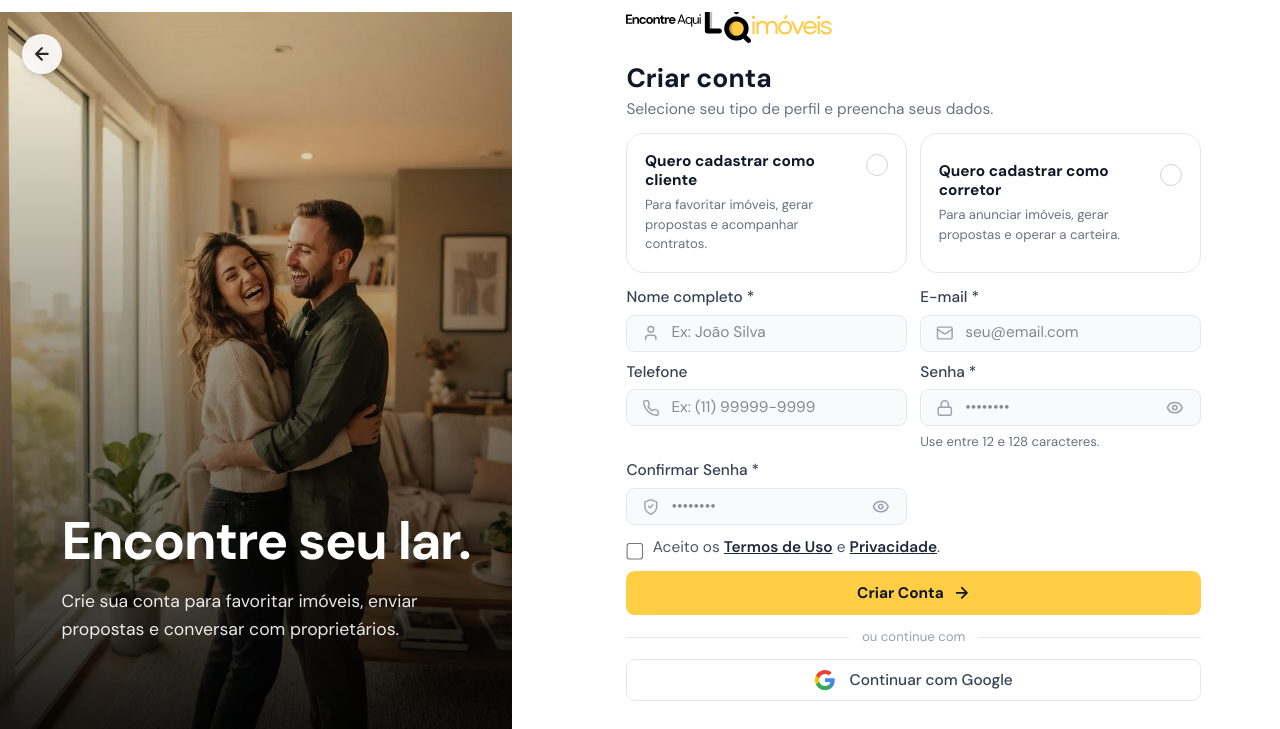
Scenario: signup flow › mapeia e-mail já registrado para ação de login quando 409 retorna do backend
Click the button "Quero cadastrar como cliente" at (767, 203), box [626,133,907,273]
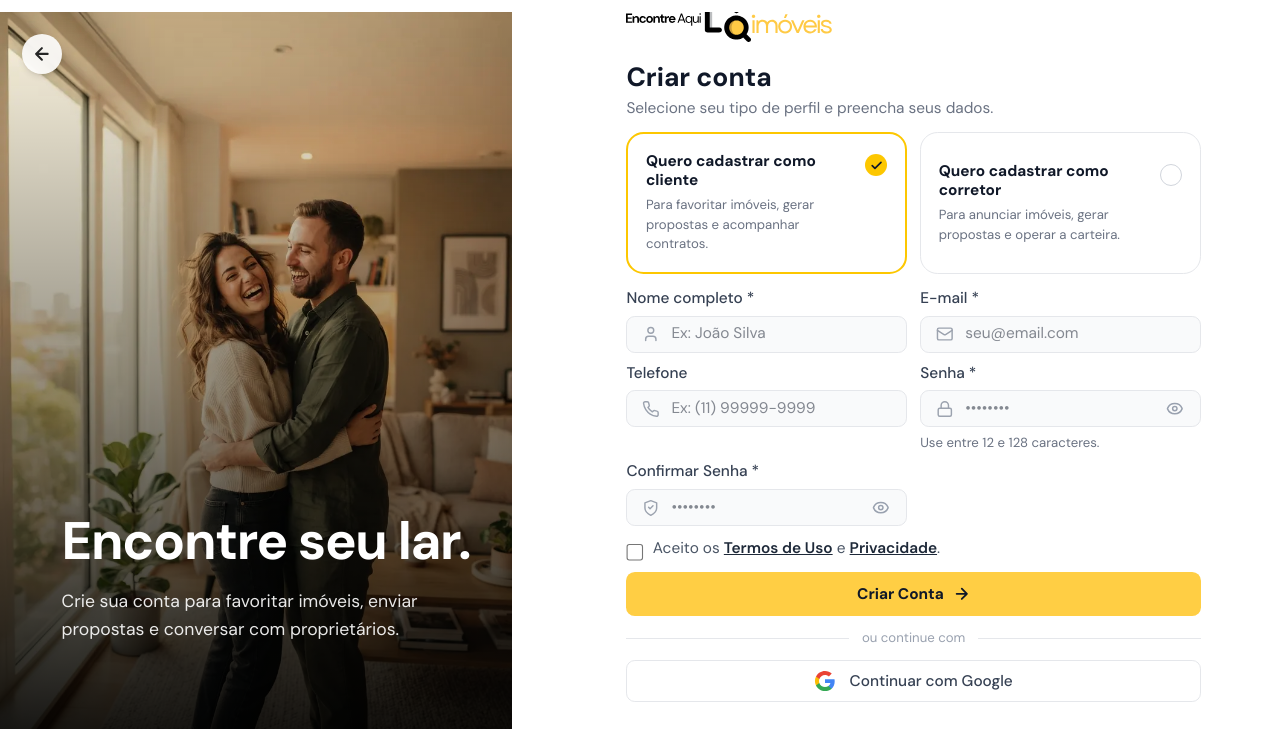
Type "Cliente Conflito" into the field labelled "Nome completo *" at (767, 334), box [626,316,907,353]
Type "conflito@example.com" into the field labelled "E-mail *" at (1060, 334), box [920,316,1201,353]
Type "SenhaMuitoSegura123" into the password field labelled "Senha *" at (1060, 409), box [920,390,1201,427]
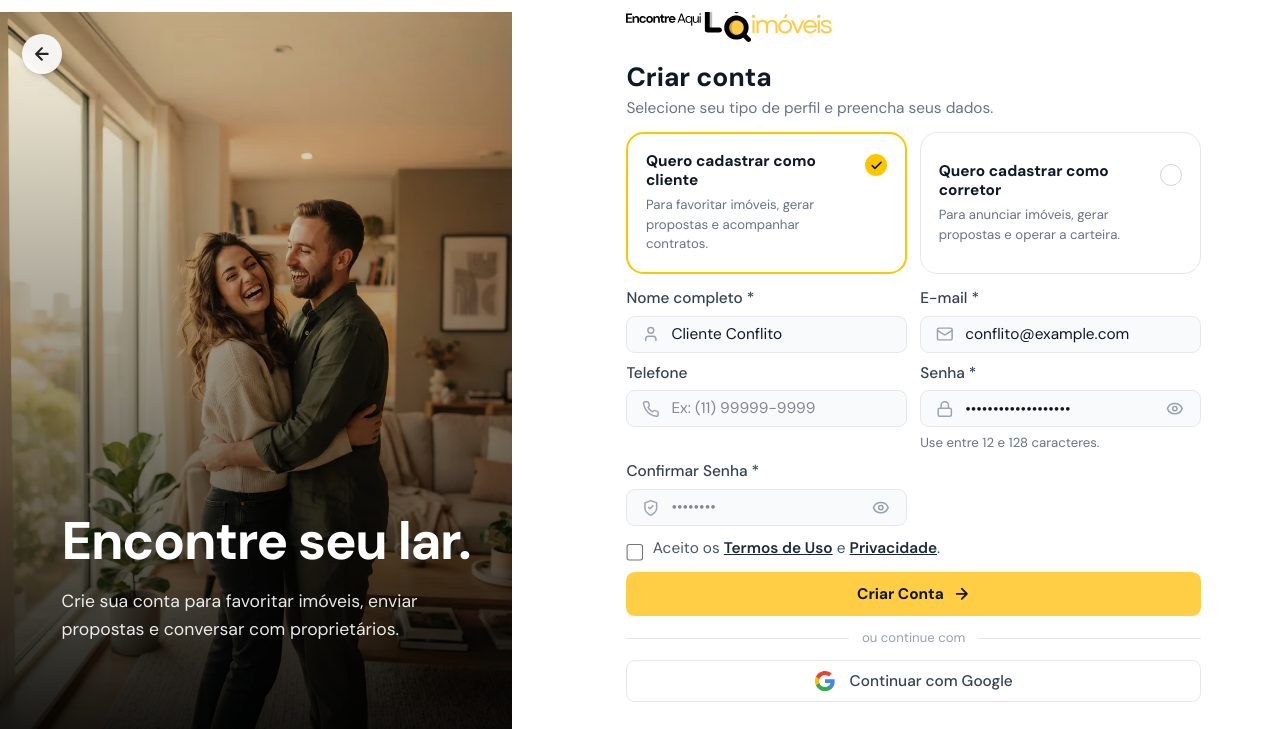
Type "SenhaMuitoSegura123" into the password field labelled "Confirmar Senha *" at (767, 508), box [626,489,907,526]
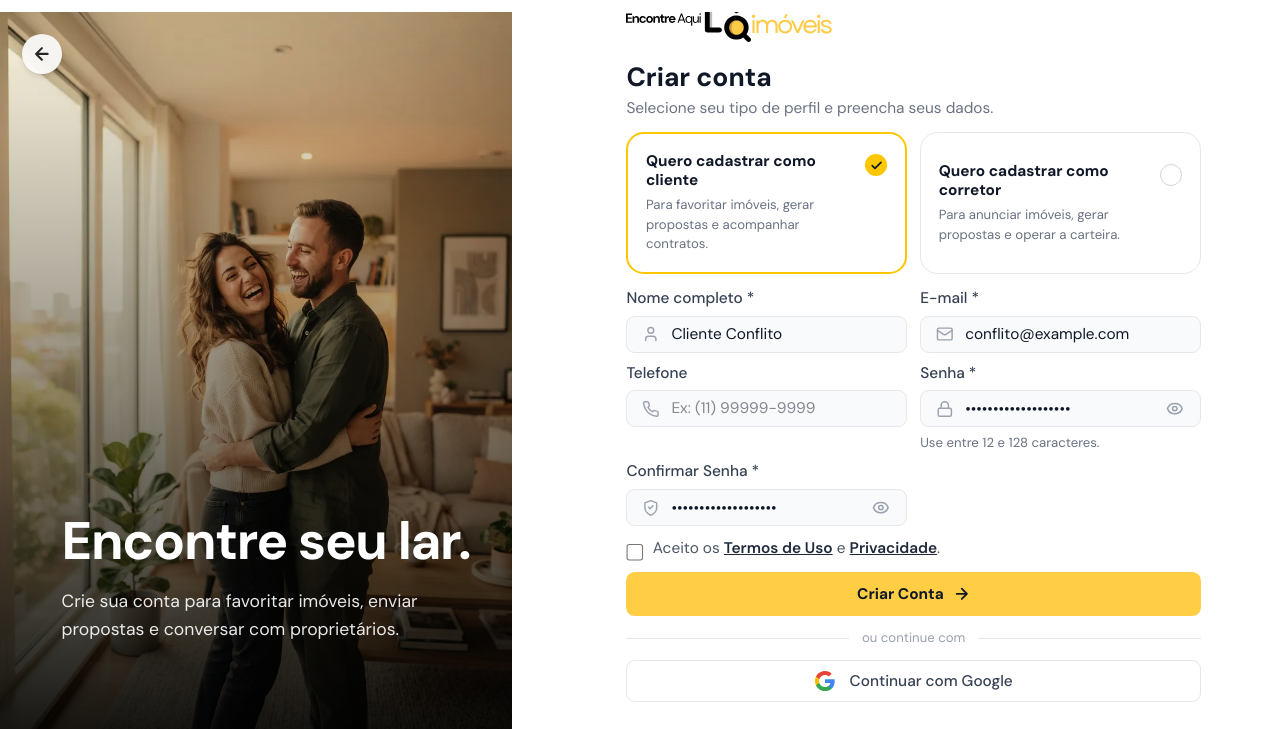
Type "(62) 98888-8888" into the field labelled "Telefone" at (767, 409), box [626,390,907,427]
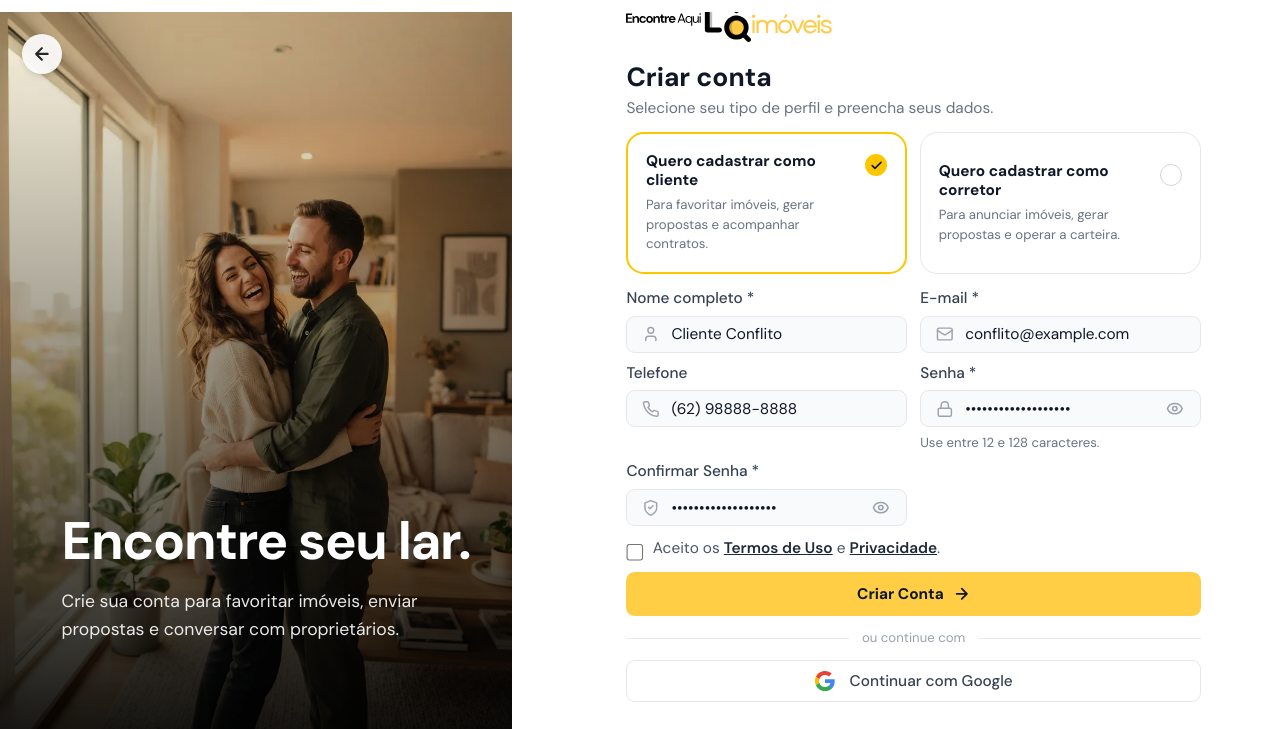
Click the checkbox at (635, 552), box [626,544,644,561]
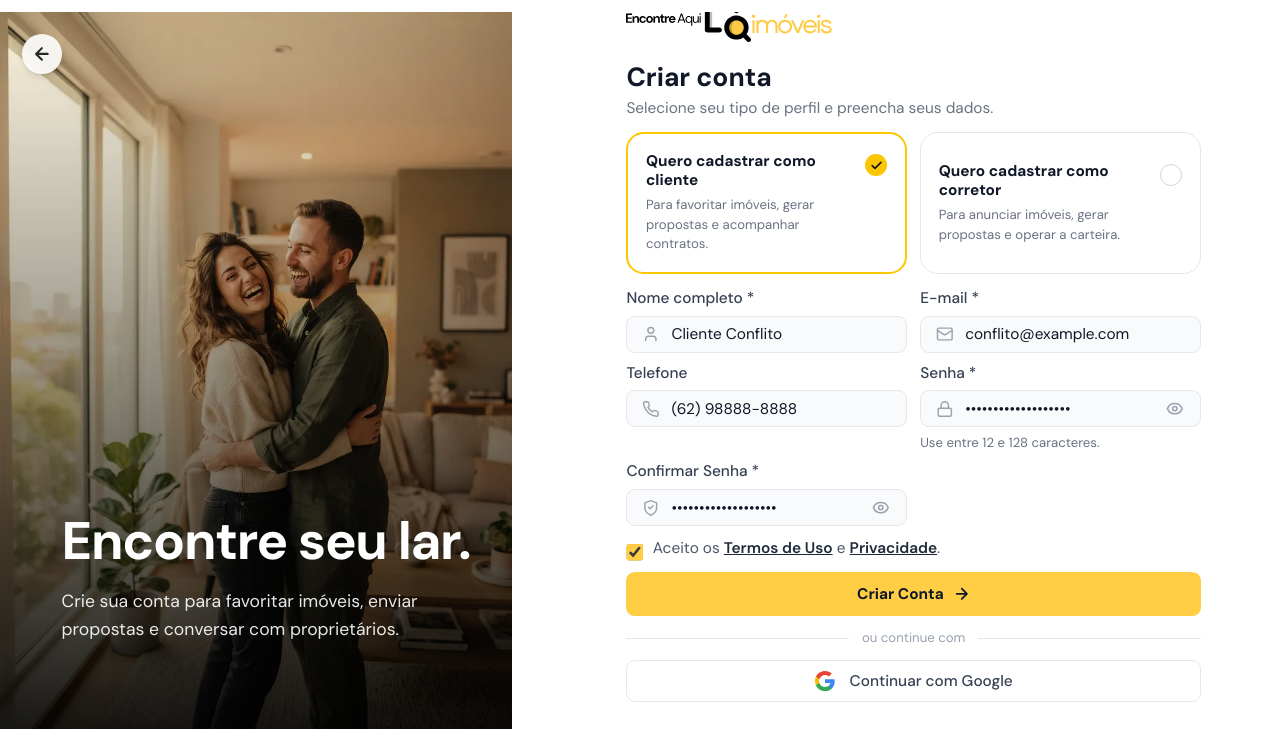
Click the button "Criar Conta" at (914, 594), box [626,572,1201,616]
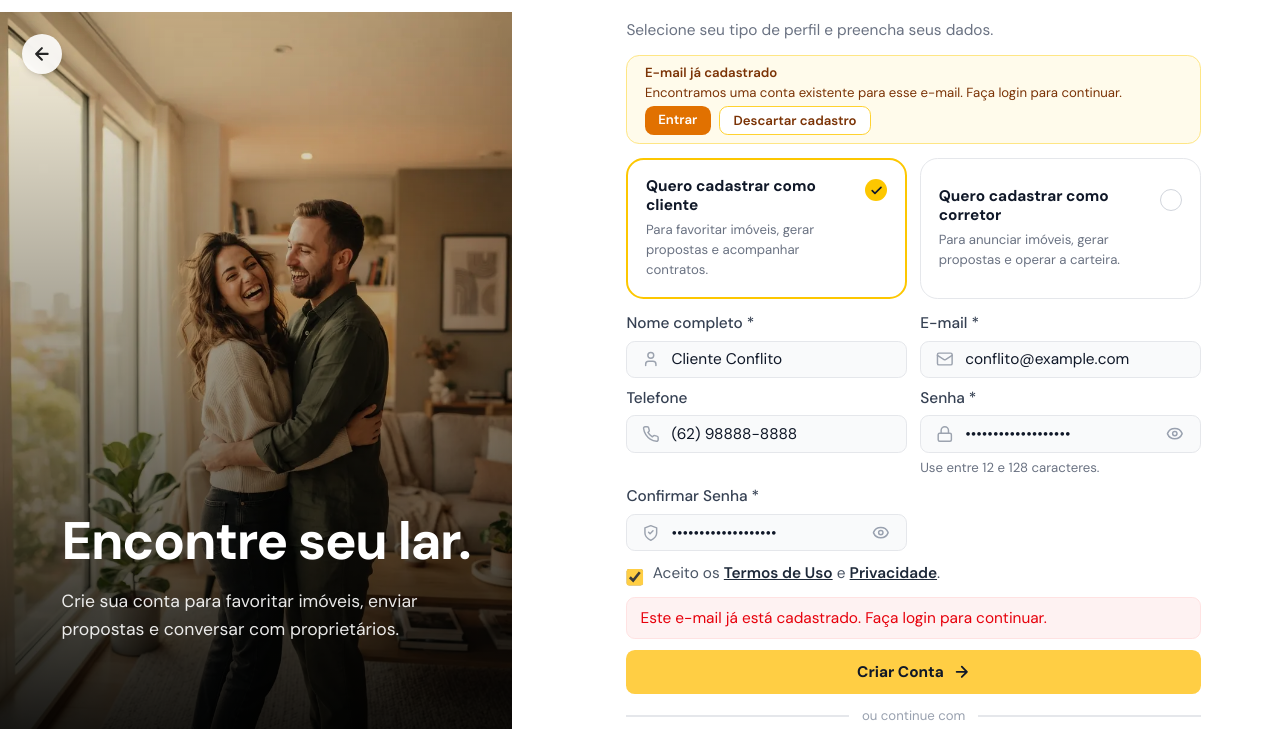
Expected: the text "Este e-mail já está cadastrado. Faça login para continuar." is shown, [626,597,1201,639]
Expected: the link "Entrar" is shown, [645,106,711,135]
Expected: the button "Descartar cadastro" is shown, [719,106,871,135]
